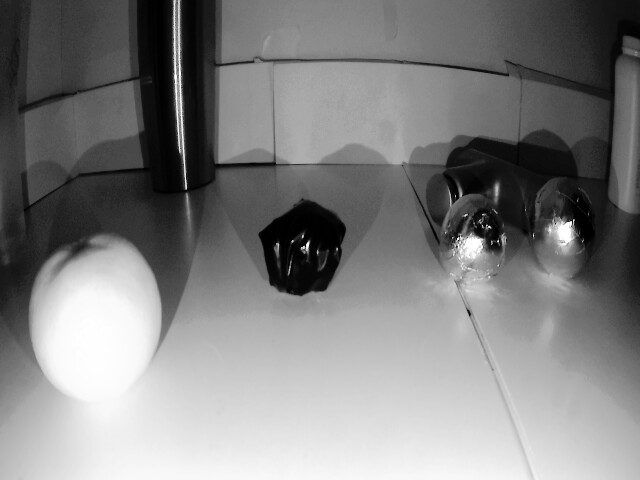black: (256, 196, 360, 301)
silver: (433, 199, 515, 287), (529, 176, 591, 279)
